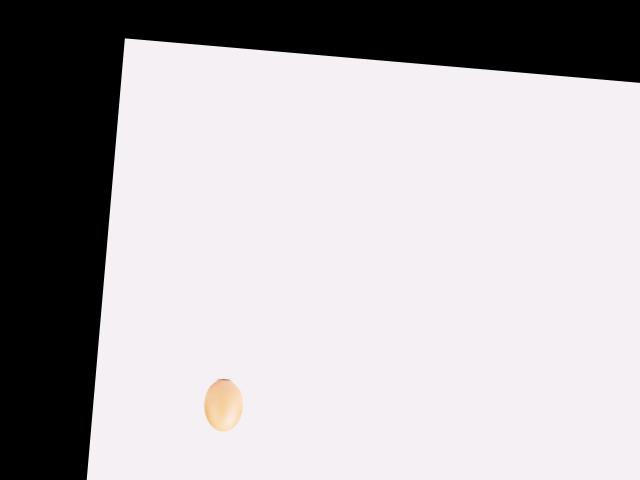egg: (201, 377, 244, 433)
